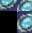mirror: (17, 11, 32, 33), (0, 0, 17, 11)
